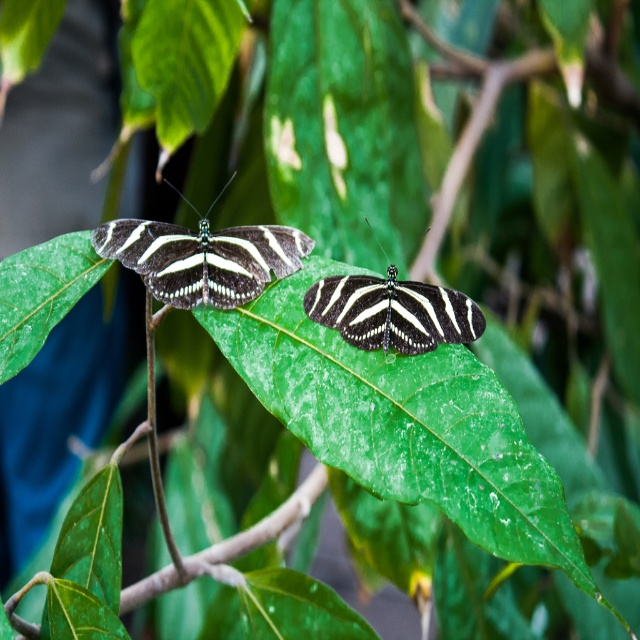Butterfly: (112, 163, 304, 339), (304, 212, 491, 366)
